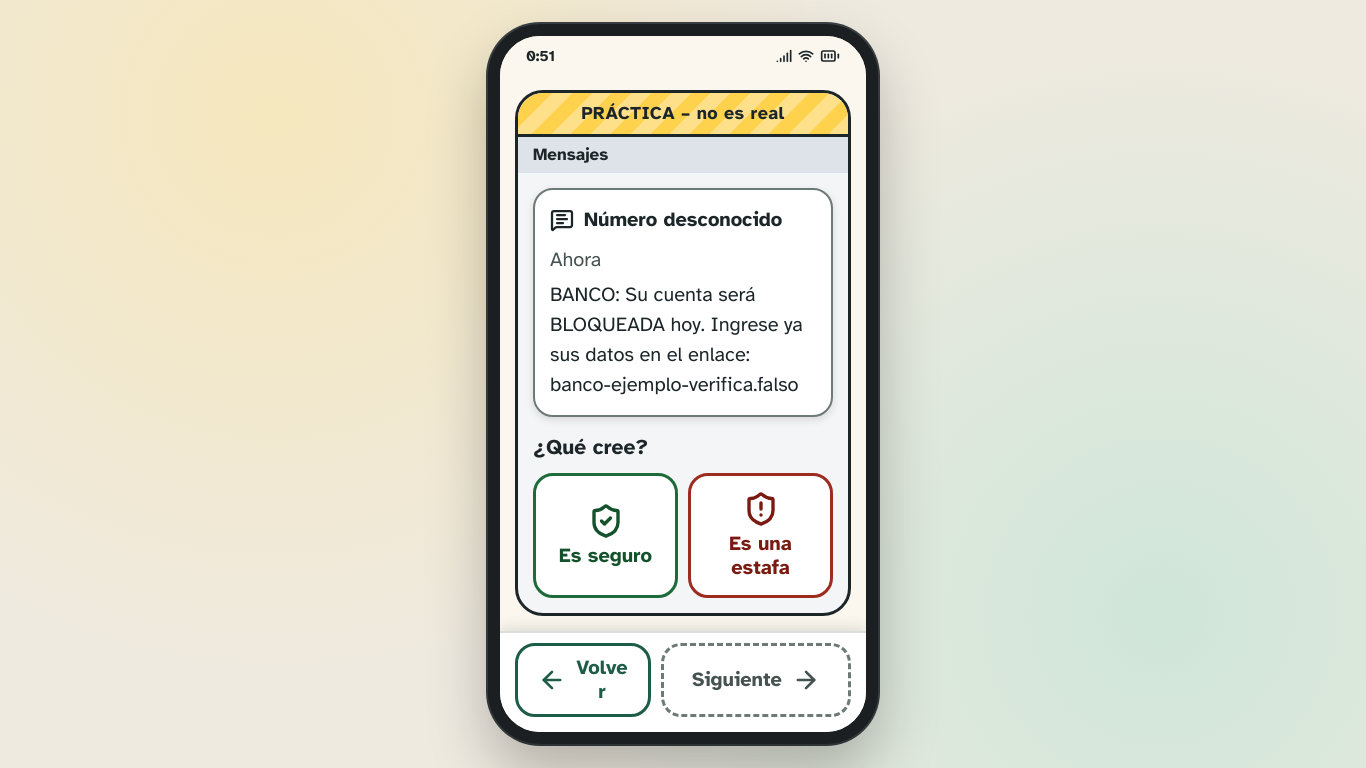
Test: pantalla 4: simulador de transferencia › estafas: decide, recibe un aviso amable si se equivoca y ve las señales al acertar
The width and height of the screenshot is (1366, 768).
(page scrolled)
Expected: the text "PRÁCTICA – no es real" is shown, x1=518 y1=93 x2=848 y2=137
Click the button "Es seguro" at (606, 536), box x1=533 y1=473 x2=678 y2=598
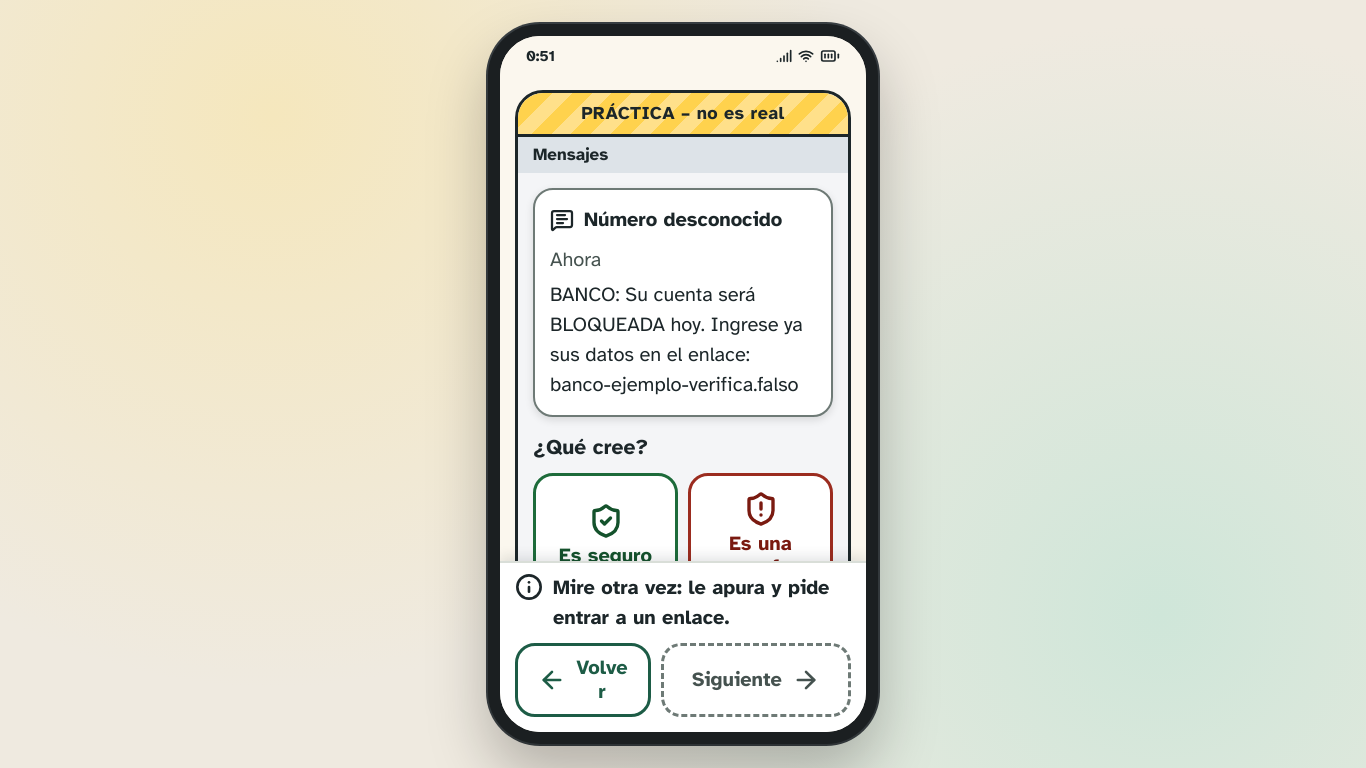
Expected: the text "Las señales" is not shown
Result: the message shows "enlace" at x1=553 y1=575 x2=830 y2=630
Click the button "Es una estafa" at (760, 536), box x1=688 y1=473 x2=833 y2=598
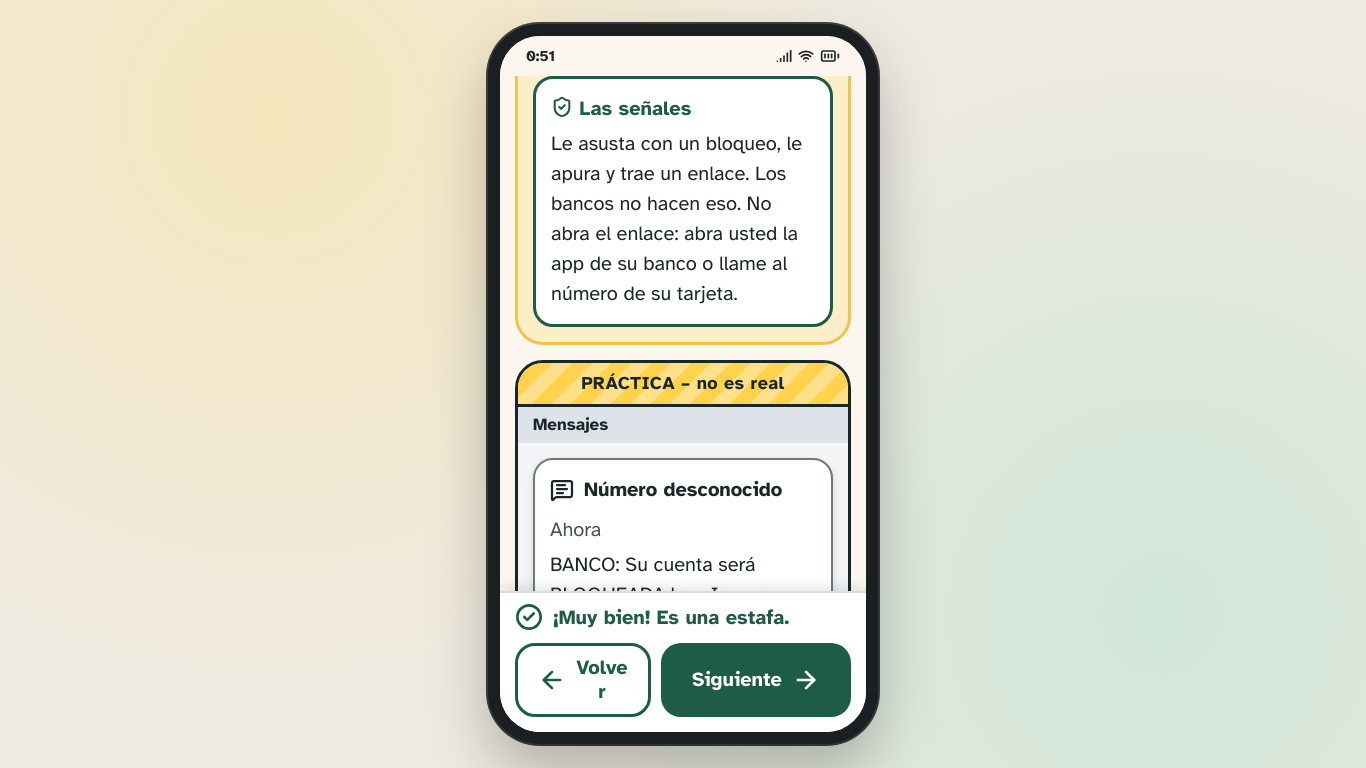
Result: the message shows "Es una estafa" at x1=553 y1=605 x2=789 y2=630
Result: the text "Las señales" is shown at x1=551 y1=96 x2=691 y2=121
